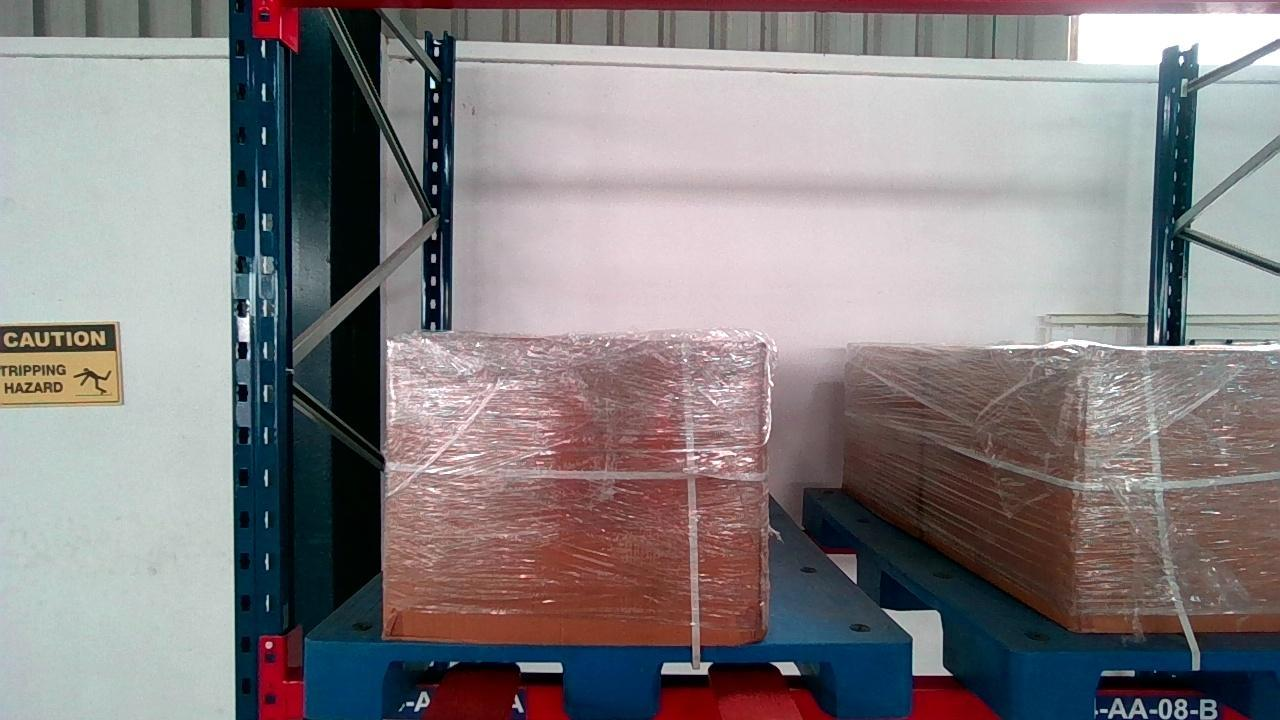small_pallet: (303, 642, 905, 719)
